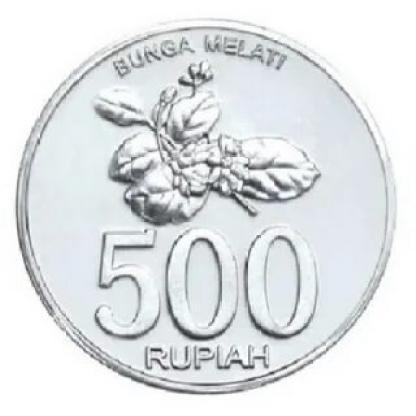coin_500_e2003: (11, 14, 402, 399)
